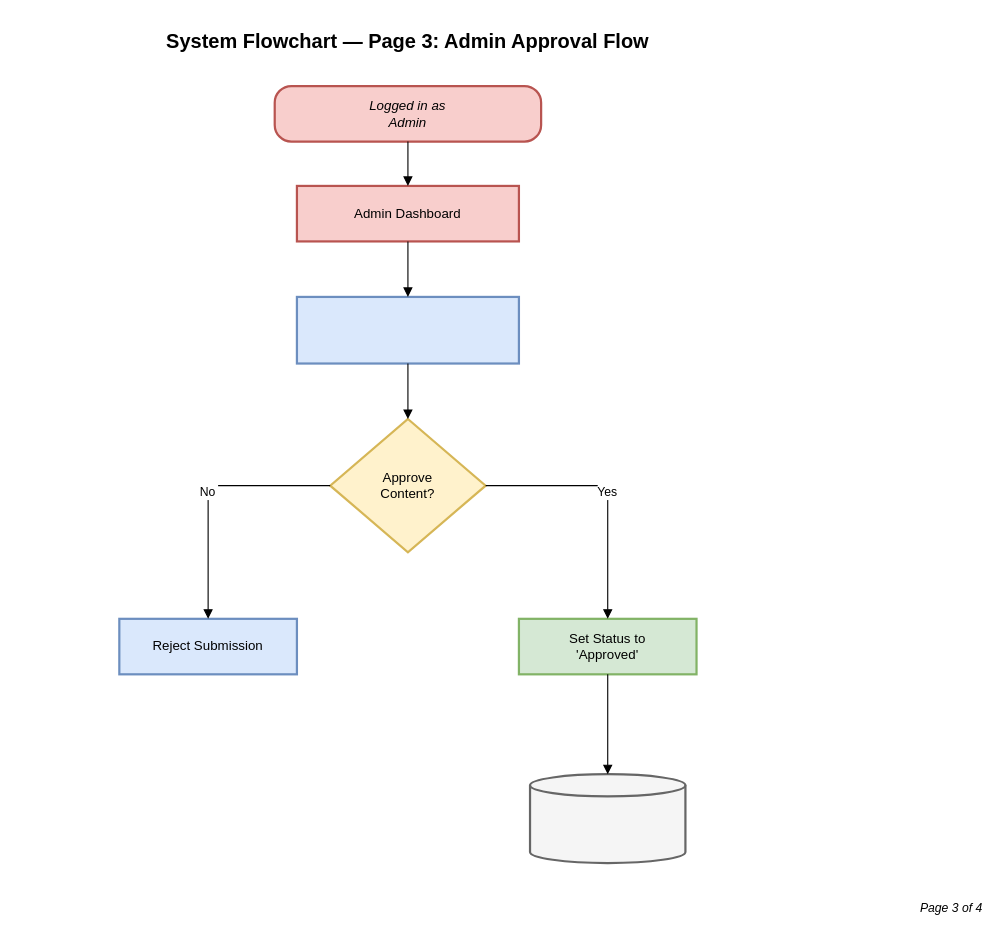
Image size: 1003x937. Some labels were removed from this diagram. The shapes that lost their labels are listed below. From the top down, each one's centre as x and y in pixels, then its label:
(x=407, y=329): Review Pending Submissions
(x=607, y=818): Update Status in Supabase
